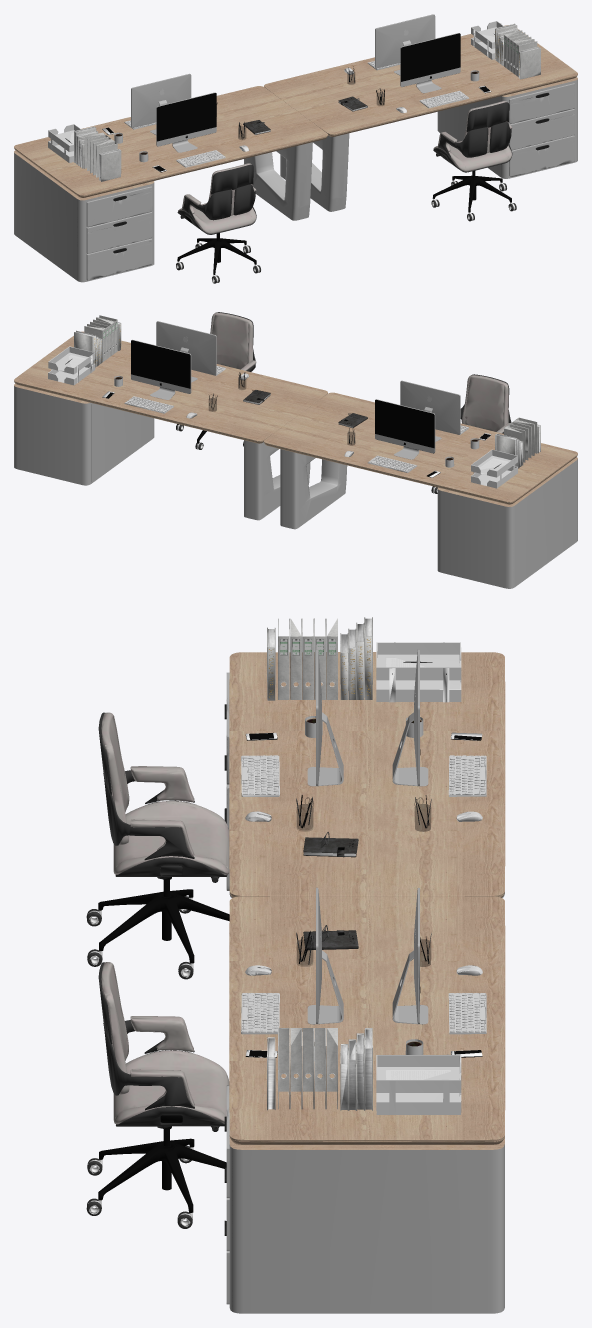
Rendered from lianpai001.dae.
3 renders of one model, top to bottom at view 1: azimuth 30°, elevation 25°; view 2: azimuth 150°, elevation 25°; view 3: azimuth 270°, elevation 25°, orthographic. The views are drawn at different scales.
Visible parts, largest first — view 1: Component518 (×2), Component624 (×6), Component625 (×3), Component520 (×7), Component632 (×8), Component622 (×2), Component523, Component633 (×2), Component519 (×2), Component521 (×2); view 2: Component518 (×2), Component625 (×3), Component622 (×2), Component520 (×4), Component633 (×2), Component523 (×3), Component521 (×4), Component519 (×2); view 3: Component518 (×2), Component625 (×2), Component633 (×6), Component632 (×6), Component521 (×4), Component520 (×3), Component523, Component515.
Part boxes in pixels (<box>): Component518 (×2): <box>14,25,577,197</box>; Component624 (×6): <box>86,83,574,280</box>; Component625 (×3): <box>14,79,577,282</box>; Component520 (×7): <box>131,33,460,146</box>; Component632 (×8): <box>177,102,511,274</box>; Component622 (×2): <box>244,133,349,220</box>; Component523: <box>375,14,435,68</box>; Component633 (×2): <box>178,140,511,233</box>; Component519 (×2): <box>99,46,540,181</box>; Component521 (×2): <box>48,21,503,151</box>; Component518 (×2): <box>14,331,577,504</box>; Component625 (×3): <box>14,386,577,588</box>; Component622 (×2): <box>244,440,347,529</box>; Component520 (×4): <box>156,321,460,453</box>; Component633 (×2): <box>210,312,508,431</box>; Component523 (×3): <box>131,339,191,393</box>; Component521 (×4): <box>48,346,517,488</box>; Component519 (×2): <box>74,330,517,466</box>; Component518 (×2): <box>229,652,505,1144</box>; Component625 (×2): <box>229,1136,504,1313</box>; Component633 (×6): <box>101,712,229,1124</box>; Component632 (×6): <box>98,773,229,1212</box>; Component521 (×4): <box>376,642,461,1114</box>; Component520 (×3): <box>307,712,428,1024</box>; Component523: <box>392,950,428,1024</box>; Component515: <box>303,837,358,857</box>.
Bounding box in the file's own units: 62.03 × 22.5 × 16.19.
36 materials, 23 textured.
